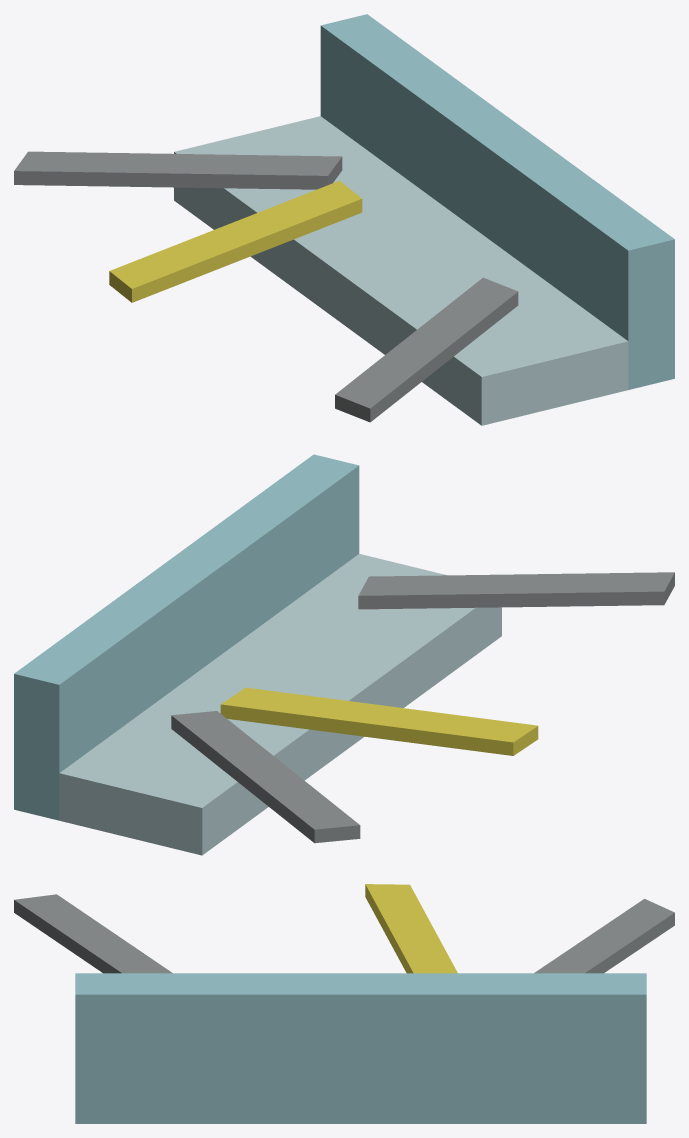
Rendered from Migelo.glb.
3 renders of one model, top to bottom at view 1: azimuth 30°, elevation 25°; view 2: azimuth 150°, elevation 25°; view 3: azimuth 270°, elevation 25°, orthographic. The views are drawn at different scales.
Parts seen in each view (by area): view 1: Mesh_Mesh_head_geo.001_lambert2SG.001; view 2: Mesh_Mesh_head_geo.001_lambert2SG.001; view 3: Mesh_Mesh_head_geo.001_lambert2SG.001.
Part boxes in pixels (left/top/right/bottom): Mesh_Mesh_head_geo.001_lambert2SG.001: left=14, top=14, right=674, bottom=425; Mesh_Mesh_head_geo.001_lambert2SG.001: left=14, top=454, right=674, bottom=855; Mesh_Mesh_head_geo.001_lambert2SG.001: left=14, top=884, right=674, bottom=1123.
Size of the model in its own units: 58.05 by 20 by 92.57.
